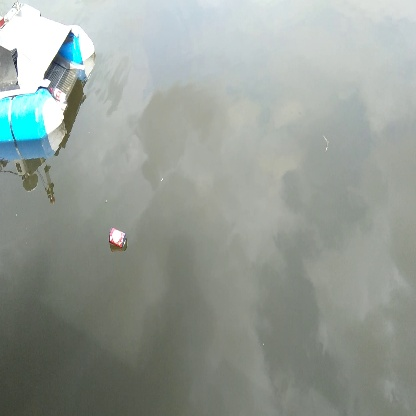bottle: (105, 226, 132, 251)
